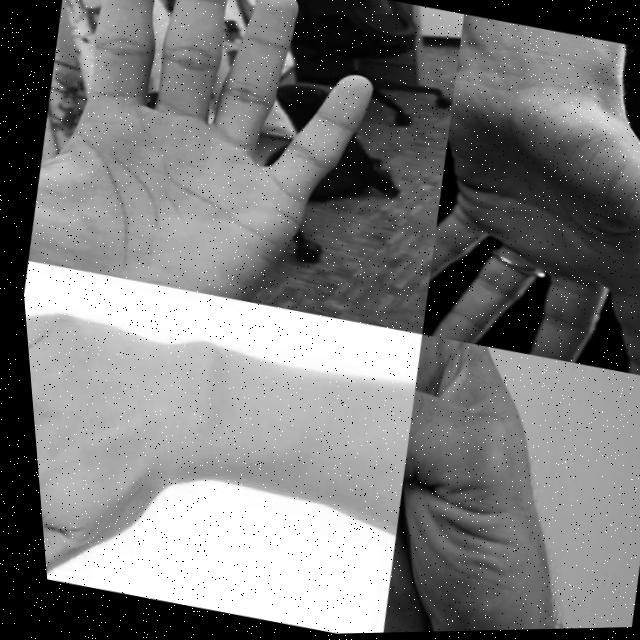hand: (5, 0, 403, 325), (397, 53, 640, 385), (349, 331, 601, 634), (19, 299, 207, 603)
